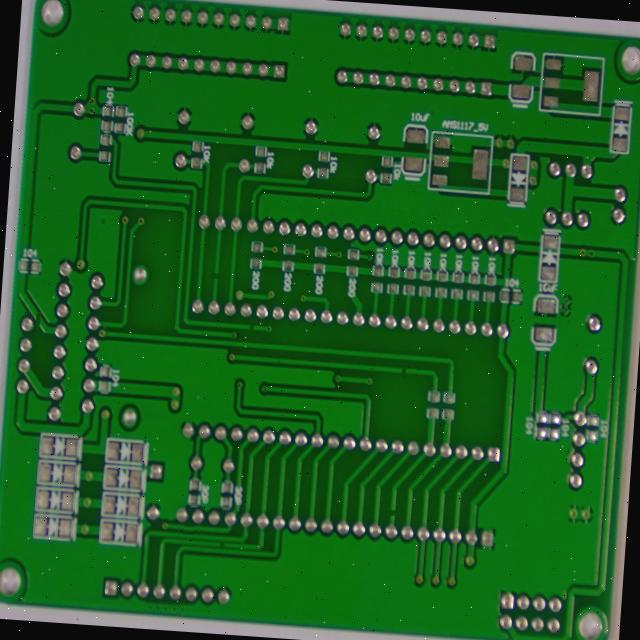open_circuit: (380, 320, 395, 337), (366, 484, 380, 499), (216, 272, 226, 288), (178, 212, 188, 228), (182, 523, 194, 535)
